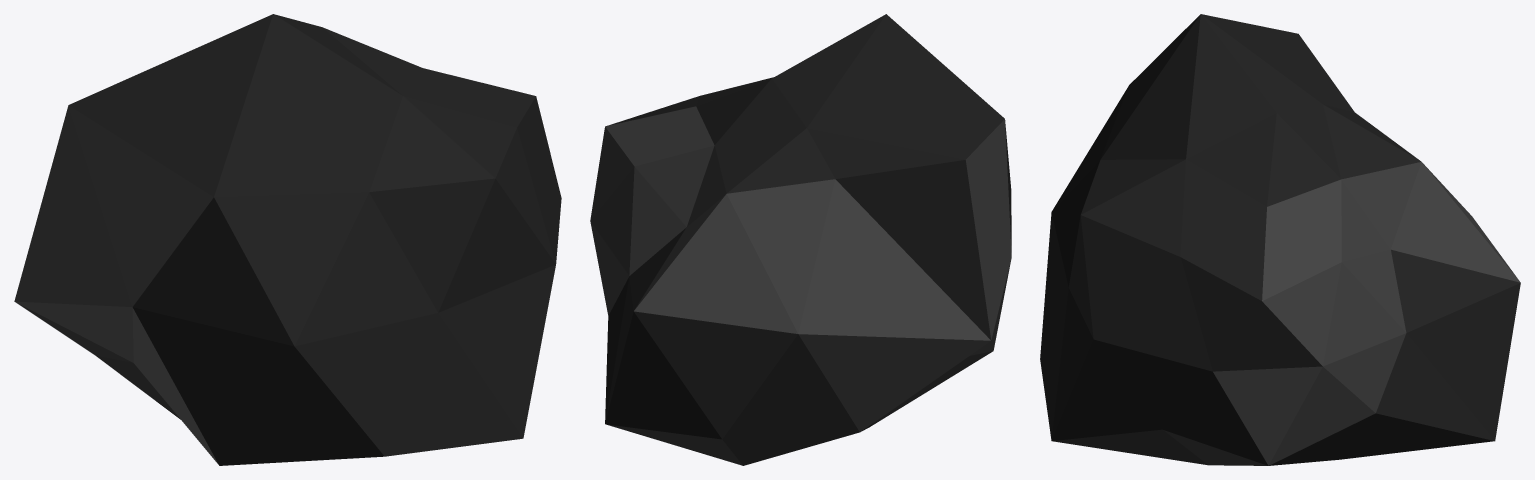
The model's file is rock_2_full.fbx.
3 views of the same model, side by side, from view 1: azimuth 30°, elevation 25°; view 2: azimuth 150°, elevation 25°; view 3: azimuth 270°, elevation 25° (orthographic). The views are drawn at different scales.
Visible parts, largest first — view 1: Icosphere; view 2: Icosphere; view 3: Icosphere.
Boxes of the visible parts, x1,y1,x2,y2 form: Icosphere: (14, 14, 561, 465); Icosphere: (590, 14, 1011, 465); Icosphere: (1040, 14, 1520, 465).
Size of the model in its own units: 98.21 by 89.6 by 94.72.
